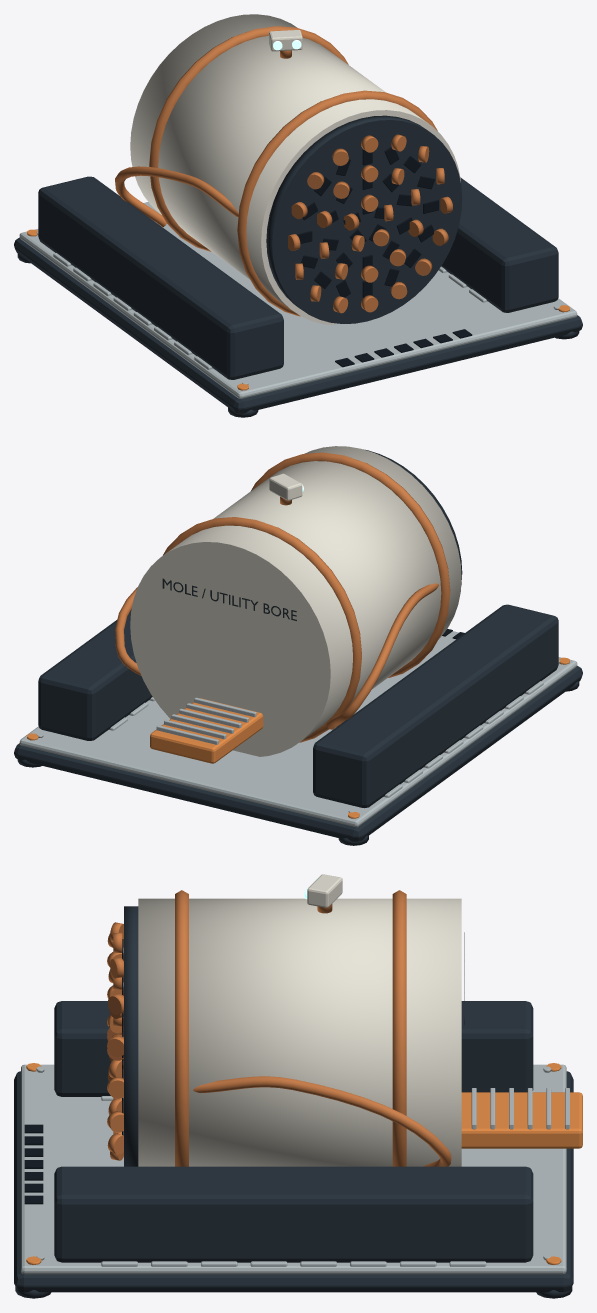
File: tunnel.glb
3 views of the same model, one above another, from view 1: azimuth 30°, elevation 25°; view 2: azimuth 150°, elevation 25°; view 3: azimuth 270°, elevation 25° (orthographic). The views are drawn at different scales.
Parts seen in each view (by area): view 1: tunnel_ROOT__02_Graphite_chassis, tunnel_ROOT__01_Ivory_ceramic, Work_cutterhead__02_Graphite_chassis, tunnel_ROOT__07_Machined_titanium, tunnel_ROOT__04_Burnished_copper, Work_cutterhead__04_Burnished_copper, Work_cutterhead__03_Carbon_seals, tunnel_ROOT__03_Carbon_seals, Idle_sensor.004__01_Ivory_ceramic; view 2: tunnel_ROOT__01_Ivory_ceramic, tunnel_ROOT__02_Graphite_chassis, tunnel_ROOT__07_Machined_titanium, tunnel_ROOT__04_Burnished_copper, tunnel_ROOT__06_Mission_orange, Idle_sensor.004__01_Ivory_ceramic, tunnel_ROOT__12_Stencil_ink; view 3: tunnel_ROOT__01_Ivory_ceramic, tunnel_ROOT__02_Graphite_chassis, tunnel_ROOT__07_Machined_titanium, tunnel_ROOT__04_Burnished_copper, tunnel_ROOT__06_Mission_orange, Work_cutterhead__02_Graphite_chassis, Work_cutterhead__04_Burnished_copper, tunnel_ROOT__03_Carbon_seals, Idle_sensor.004__01_Ivory_ceramic.
Part boxes in pixels (x1,y1,x2,y2): tunnel_ROOT__02_Graphite_chassis: [14, 176, 582, 417]; tunnel_ROOT__01_Ivory_ceramic: [130, 14, 460, 324]; Work_cutterhead__02_Graphite_chassis: [266, 115, 462, 323]; tunnel_ROOT__07_Machined_titanium: [19, 202, 577, 398]; tunnel_ROOT__04_Burnished_copper: [115, 26, 437, 316]; Work_cutterhead__04_Burnished_copper: [288, 134, 452, 313]; Work_cutterhead__03_Carbon_seals: [296, 146, 438, 297]; tunnel_ROOT__03_Carbon_seals: [335, 329, 472, 367]; Idle_sensor.004__01_Ivory_ceramic: [269, 30, 302, 51]; tunnel_ROOT__01_Ivory_ceramic: [130, 446, 461, 756]; tunnel_ROOT__02_Graphite_chassis: [14, 604, 582, 845]; tunnel_ROOT__07_Machined_titanium: [19, 631, 577, 827]; tunnel_ROOT__04_Burnished_copper: [115, 452, 450, 742]; tunnel_ROOT__06_Mission_orange: [27, 657, 569, 818]; Idle_sensor.004__01_Ivory_ceramic: [269, 473, 302, 500]; tunnel_ROOT__12_Stencil_ink: [162, 578, 296, 620]; tunnel_ROOT__01_Ivory_ceramic: [138, 898, 461, 1166]; tunnel_ROOT__02_Graphite_chassis: [14, 1001, 573, 1298]; tunnel_ROOT__07_Machined_titanium: [21, 1064, 569, 1274]; tunnel_ROOT__04_Burnished_copper: [175, 890, 451, 1166]; tunnel_ROOT__06_Mission_orange: [26, 1063, 582, 1264]; Work_cutterhead__02_Graphite_chassis: [124, 906, 138, 1166]; Work_cutterhead__04_Burnished_copper: [107, 922, 123, 1160]; tunnel_ROOT__03_Carbon_seals: [24, 1124, 43, 1204]; Idle_sensor.004__01_Ivory_ceramic: [307, 874, 342, 907].
Bounding box in the file's own units: 8 × 5.53 × 9.15.
